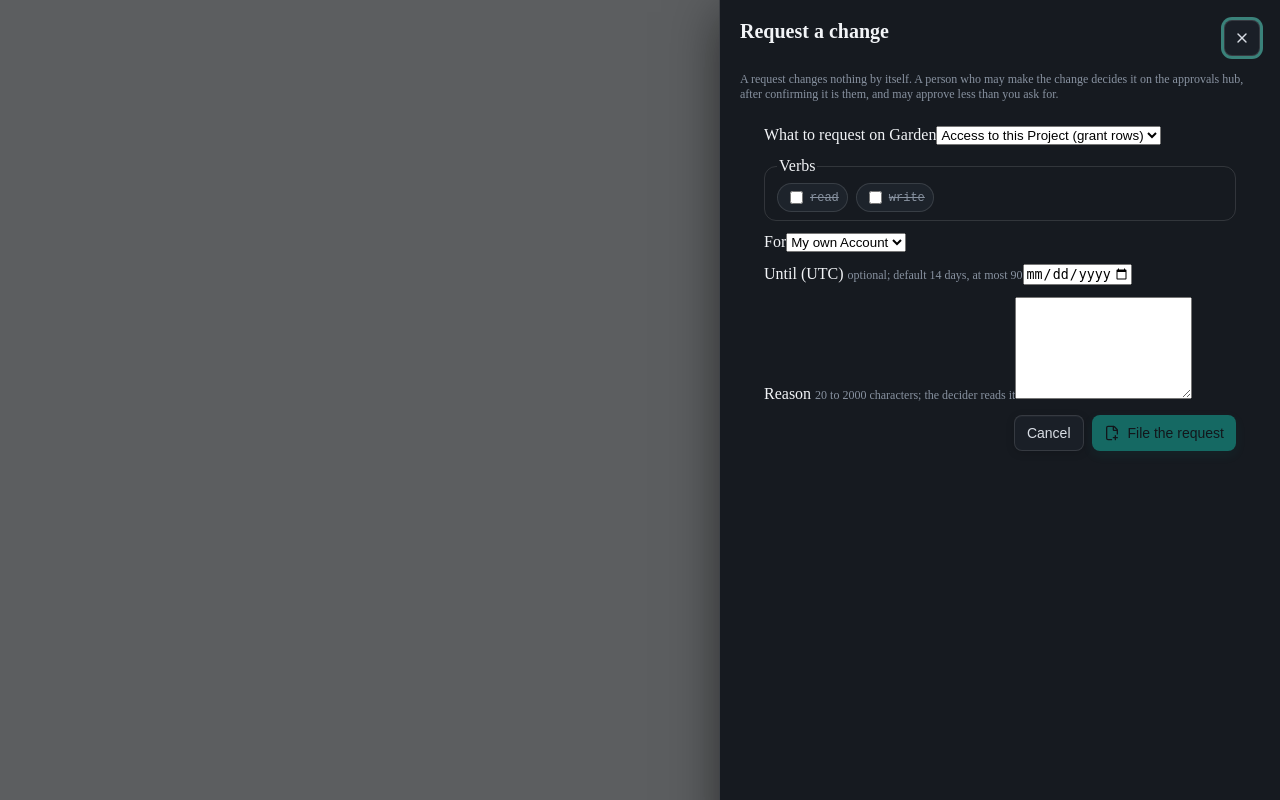
it: the Request a change dialog › on a Project: reads the preview, hides disabled principals, and files grant rows for the chosen Account
Click the checkbox labelled "read" at (796, 198), box [790,191,803,204]
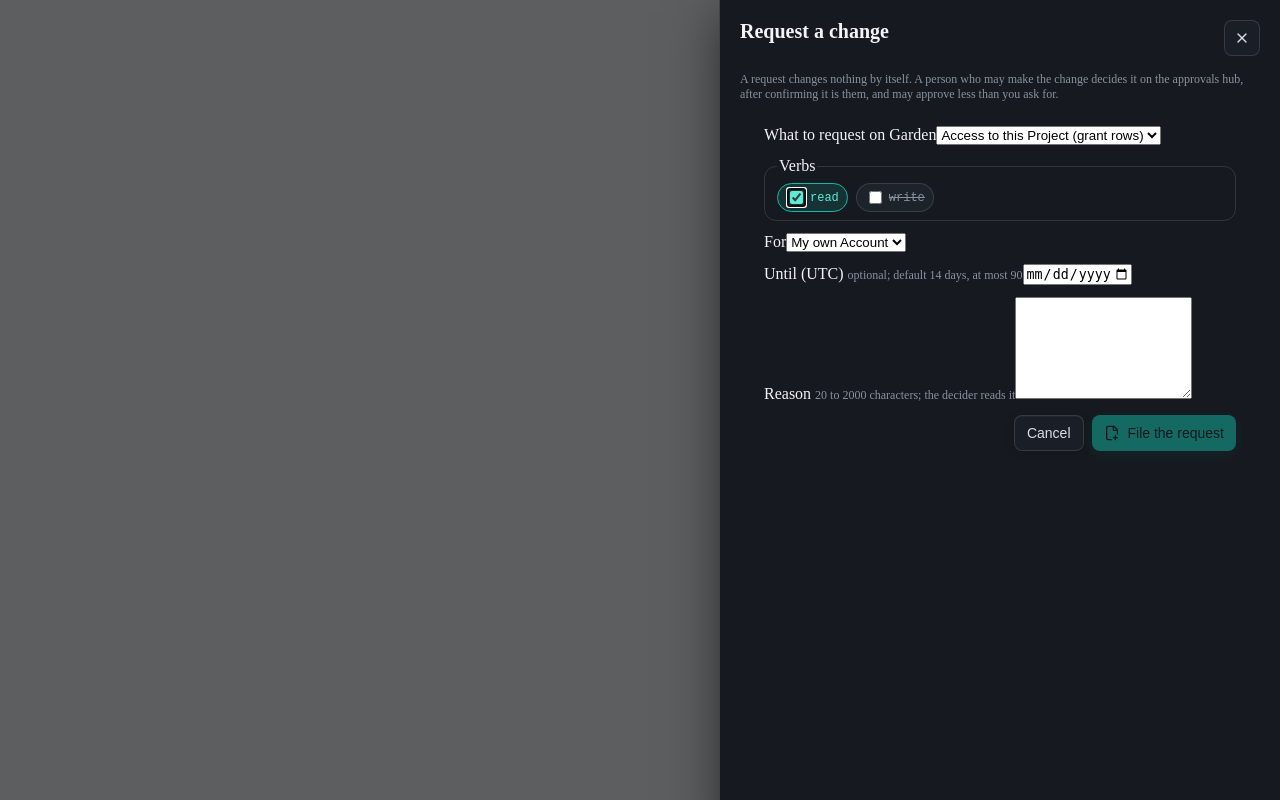
Select "reader-one" in the dropdown labelled "For" at (846, 242), box [786,233,906,252]
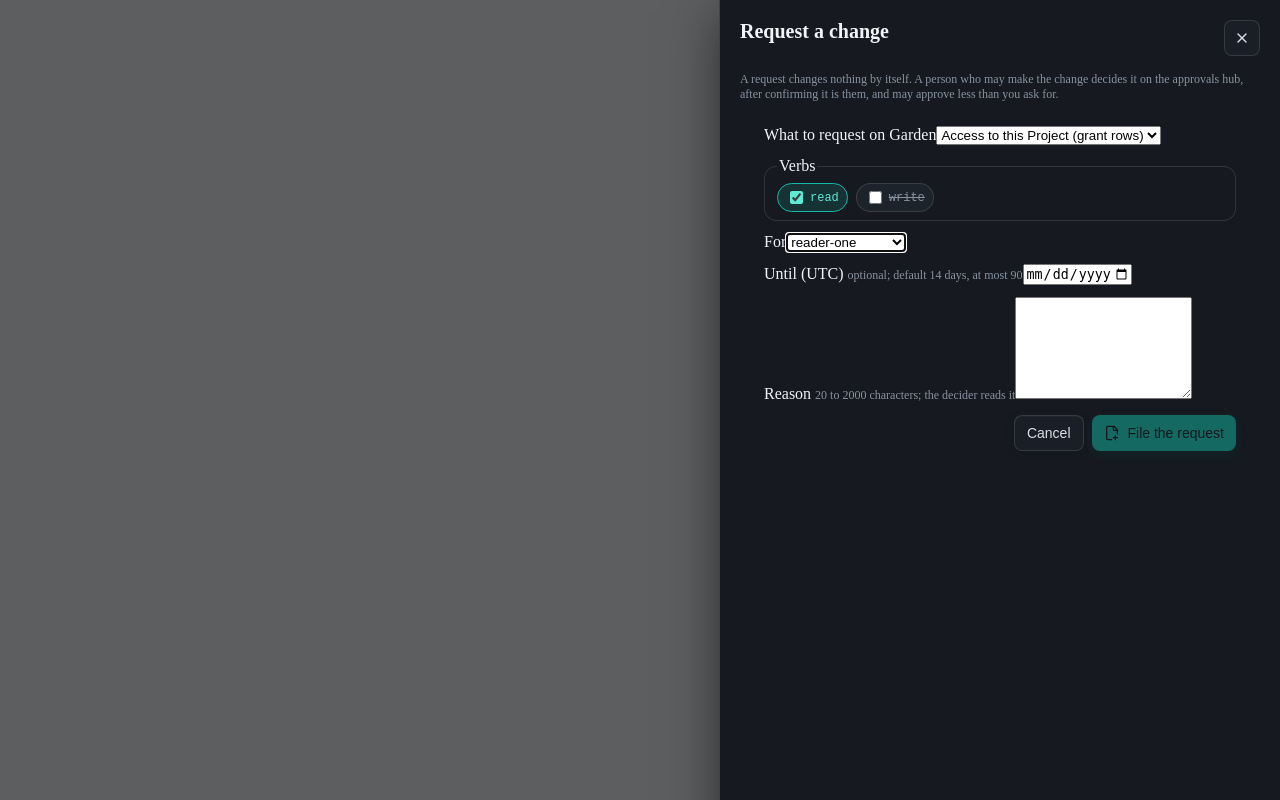
Type "The reader needs to read this project for the handover." into the text box labelled "Reason 20 to 2000 characters; the decider reads it" at (1104, 348), box [1015,297,1192,399]
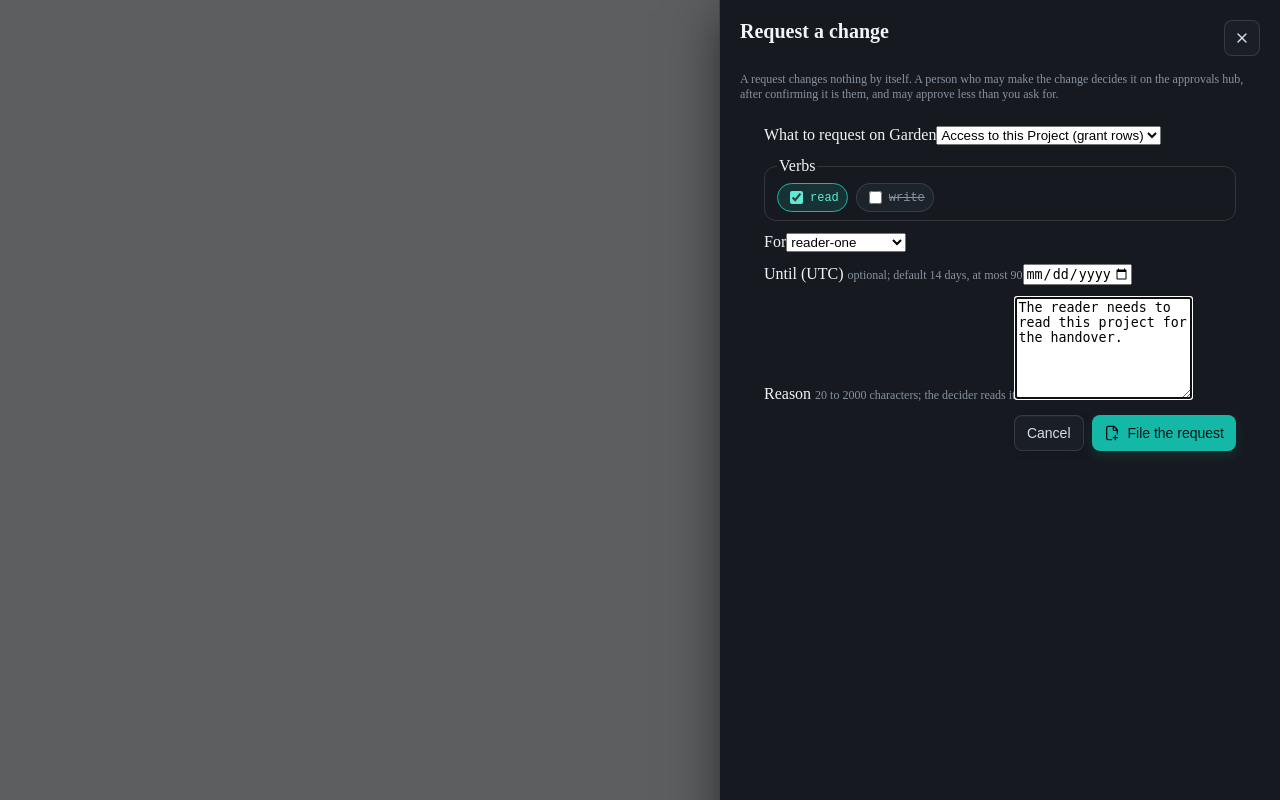
Click the button "File the request" at (1164, 433), box [1092,415,1236,451]
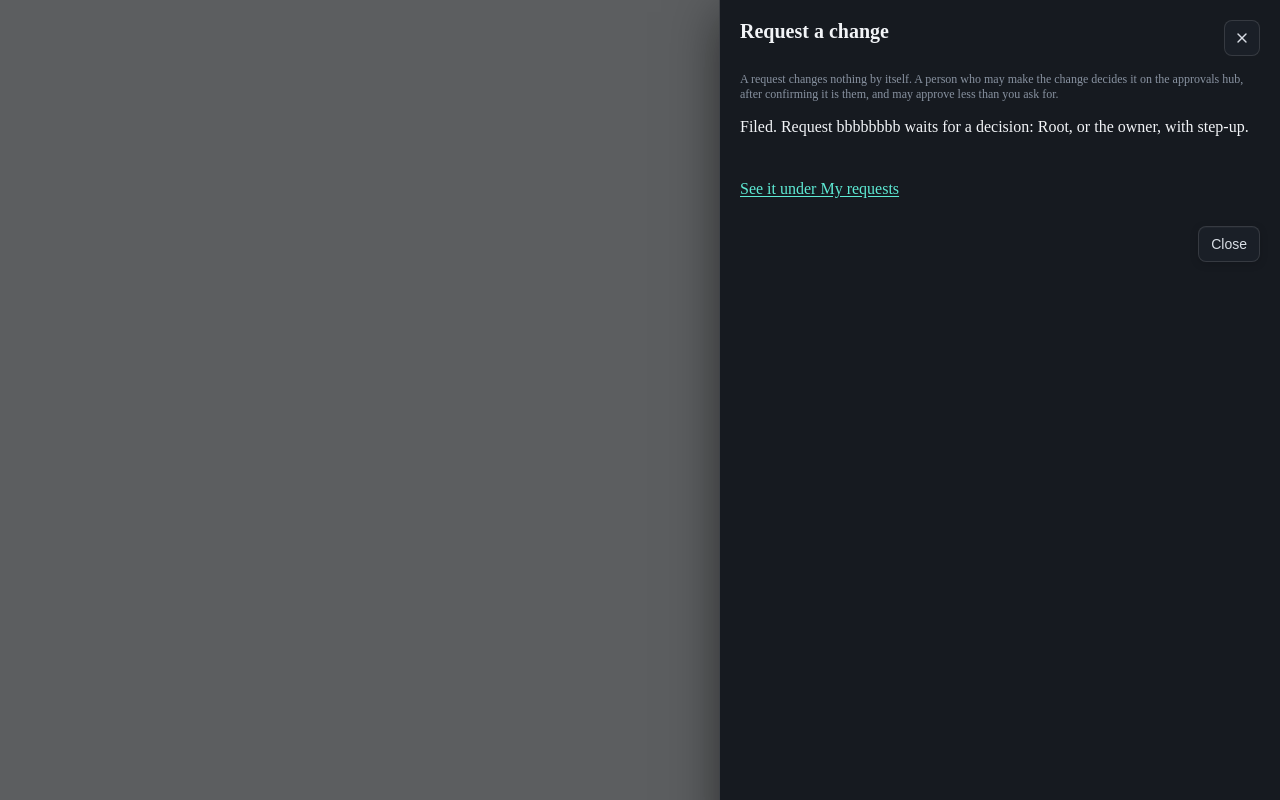
Expected: the text "Filed. Request bbbbbbbb waits for a decision: Root, or the owner, with step-up." is shown, [740,118,1260,136]
